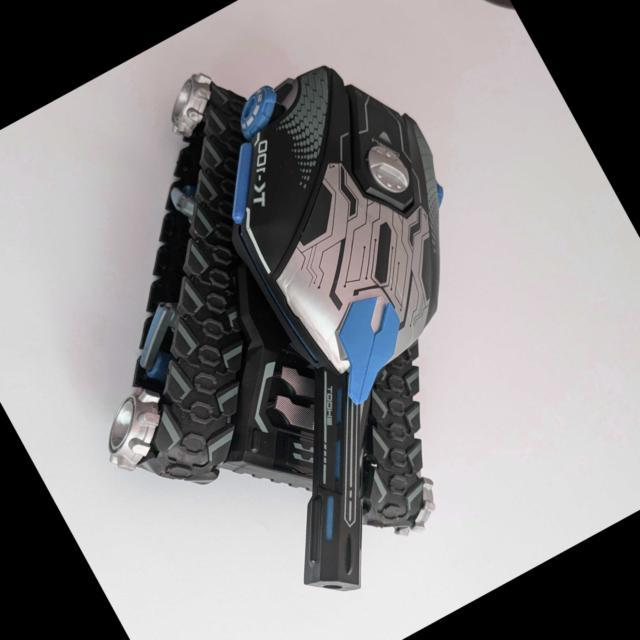barrel: (303, 367, 371, 589)
